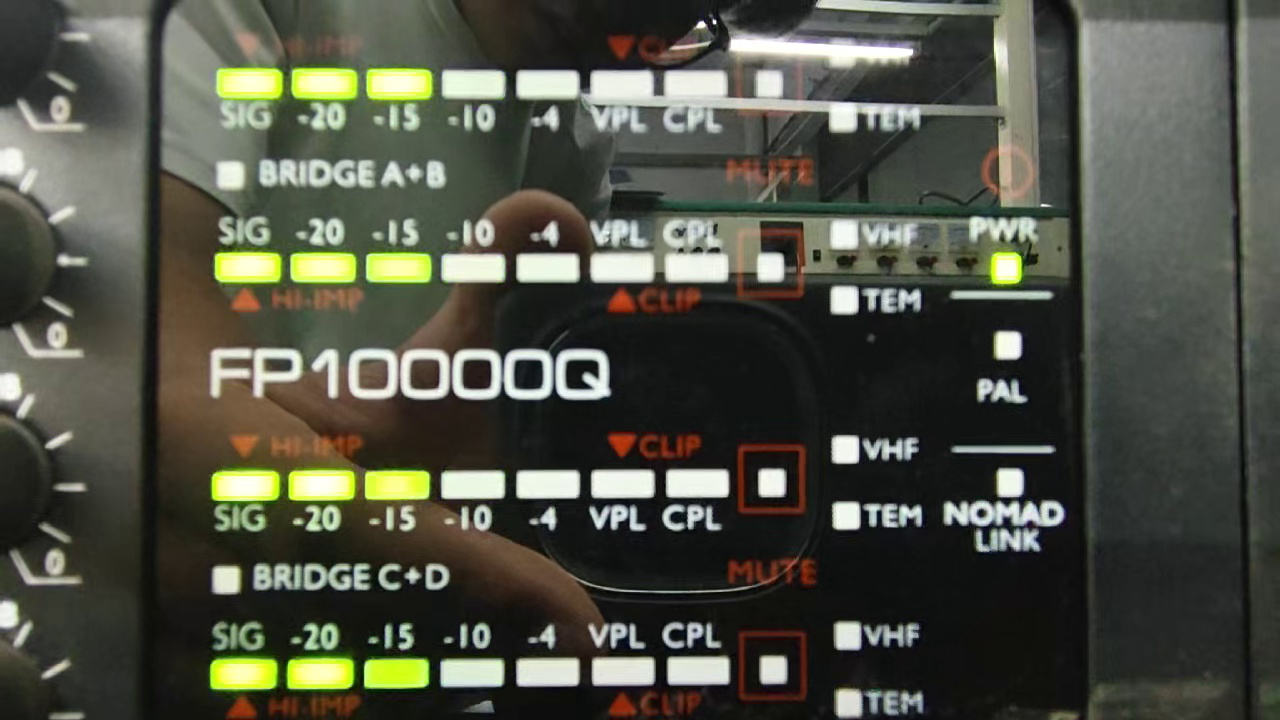FP_CPL: (660, 64, 733, 144), (662, 208, 732, 285), (660, 463, 730, 539), (661, 618, 733, 690)
FP_PWR: (964, 205, 1044, 287)
FP_PWR_area: (954, 134, 1051, 296)
FP_SIG_area: (207, 202, 935, 324), (206, 426, 924, 543), (211, 26, 927, 143), (202, 614, 933, 718)
FP_VPL: (587, 205, 658, 286), (585, 65, 657, 142), (584, 461, 654, 540), (587, 619, 658, 695)
